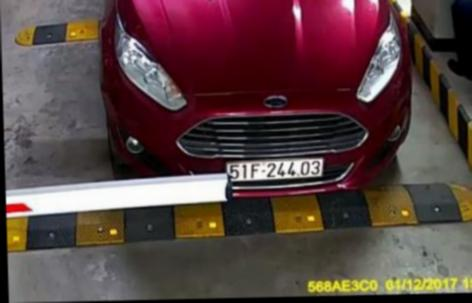License_Plate: (225, 155, 329, 185)
